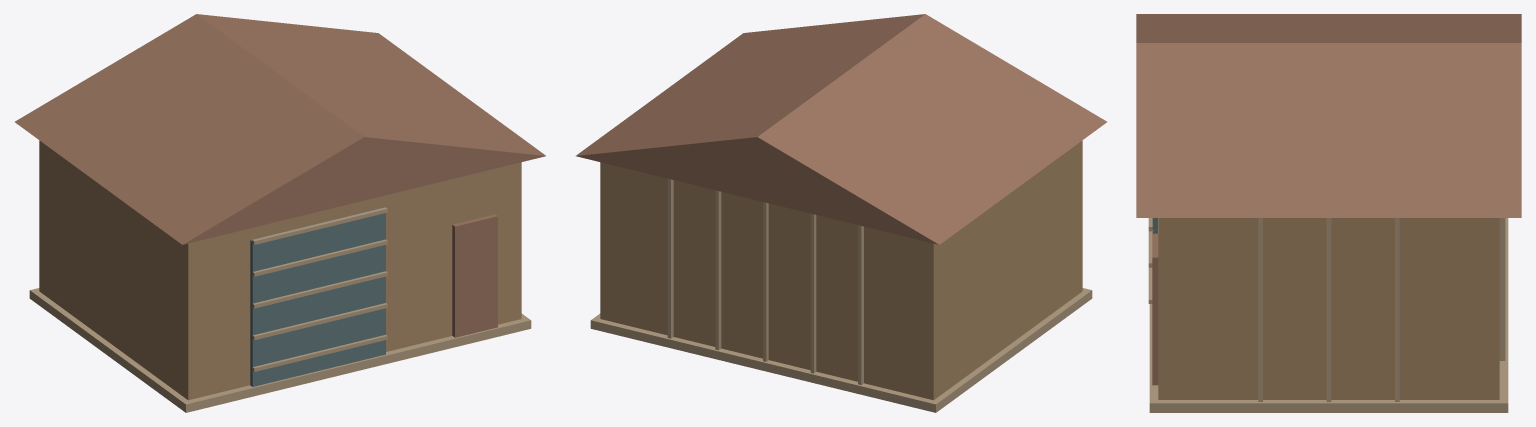
Rendered from maintenance_shed_01.glb.
The picture shows the model from 3 angles, left to right: view 1: azimuth 30°, elevation 25°; view 2: azimuth 150°, elevation 25°; view 3: azimuth 270°, elevation 25°; orthographic projection. The views are drawn at different scales.
Parts seen in each view (by area): view 1: Maintenance_shed_01; view 2: Maintenance_shed_01; view 3: Maintenance_shed_01.
Part boxes in pixels (bbox=[...]): Maintenance_shed_01: bbox=[15, 14, 545, 412]; Maintenance_shed_01: bbox=[576, 14, 1106, 412]; Maintenance_shed_01: bbox=[1136, 14, 1521, 412].
Bounding box in the file's own units: 7.31 × 4.57 × 5.85.
